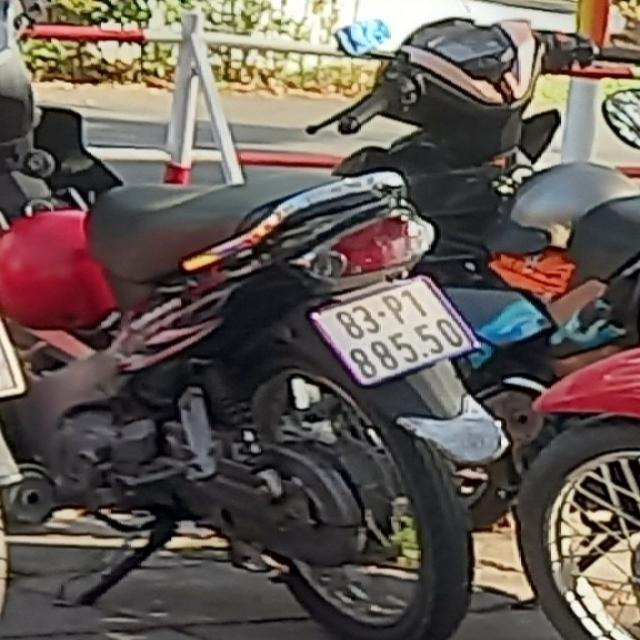0: (438, 316, 463, 347)
1: (399, 284, 426, 316)
3: (356, 303, 380, 334)
5: (413, 321, 444, 358), (391, 331, 419, 363)
8: (334, 308, 364, 341), (369, 338, 398, 372), (349, 345, 376, 377)
P: (381, 292, 405, 324)
